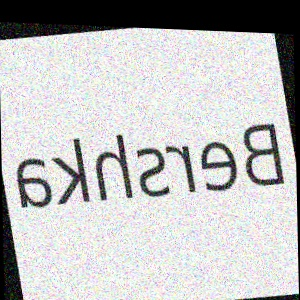bershka: (286, 77, 293, 165)
